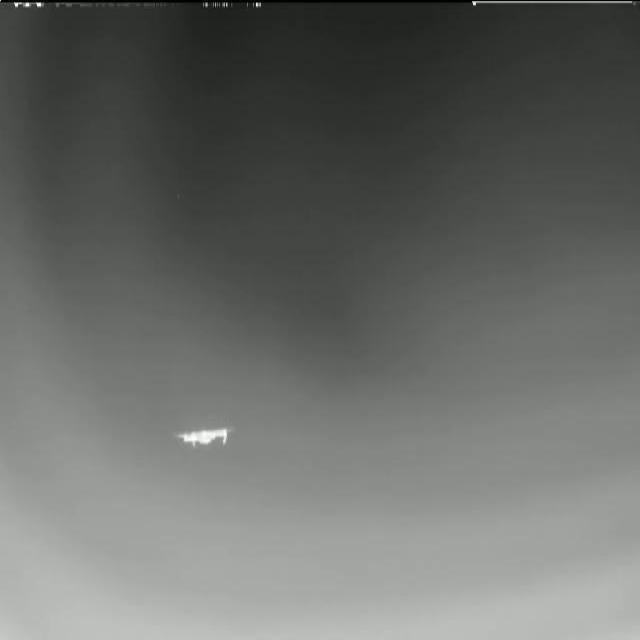DRONE: (172, 418, 238, 458)
